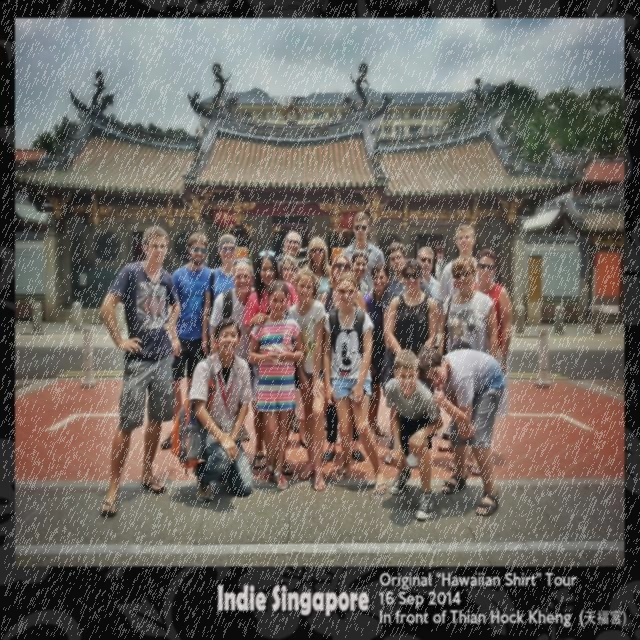pessoa: (97, 222, 181, 518), (168, 314, 254, 503), (415, 344, 507, 516), (322, 271, 388, 497), (242, 249, 300, 477), (438, 254, 496, 474), (246, 277, 304, 492), (382, 258, 440, 469), (382, 346, 444, 522), (164, 232, 212, 449), (288, 266, 328, 492), (436, 254, 501, 362), (435, 224, 494, 334), (380, 241, 430, 353), (362, 260, 391, 442), (210, 256, 256, 366), (201, 232, 239, 358), (340, 208, 386, 294), (318, 253, 368, 316), (305, 234, 333, 303), (414, 245, 440, 299), (274, 228, 304, 272), (350, 248, 370, 298), (278, 254, 300, 284)
